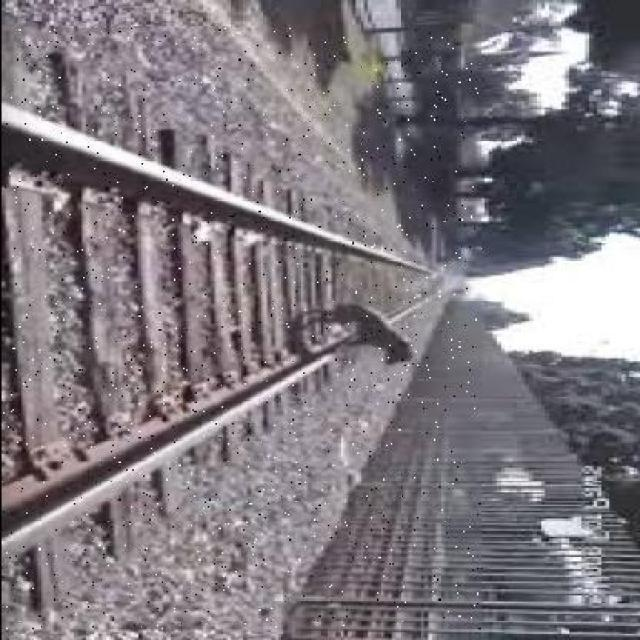rail: (1, 29, 480, 630)
